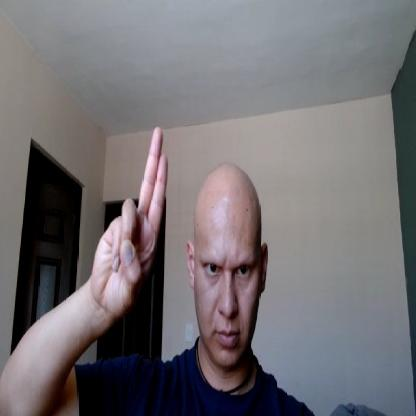U: (96, 123, 170, 315)
